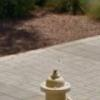a fire hydrant: (38, 66, 73, 100)
